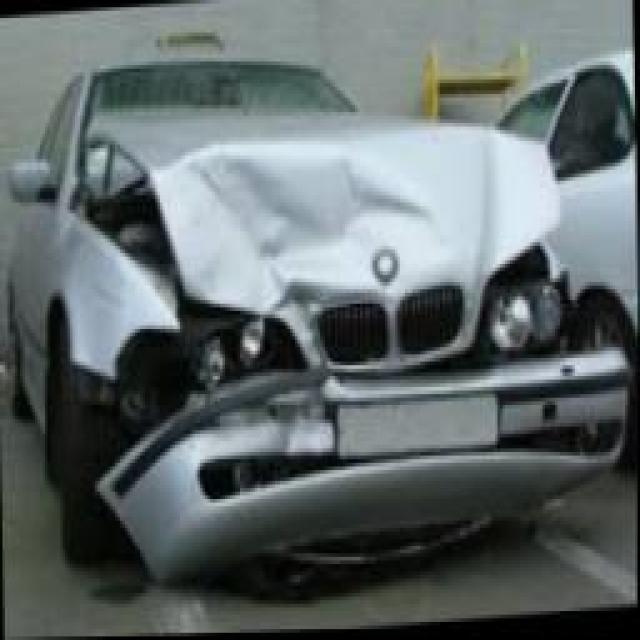Bonnet: (72, 106, 562, 367)
Bumper: (91, 353, 630, 582)
Light: (182, 315, 306, 408)
